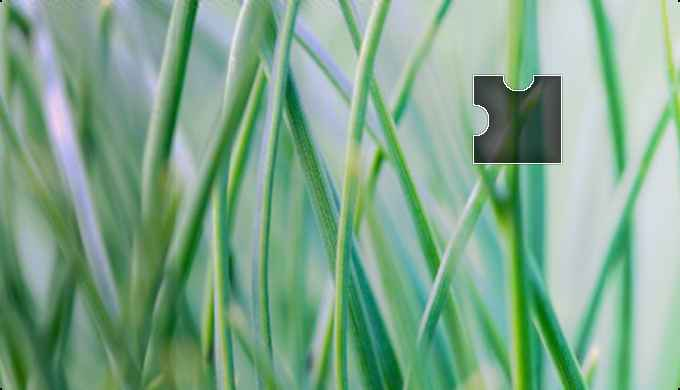gap: (472, 76, 561, 163)
